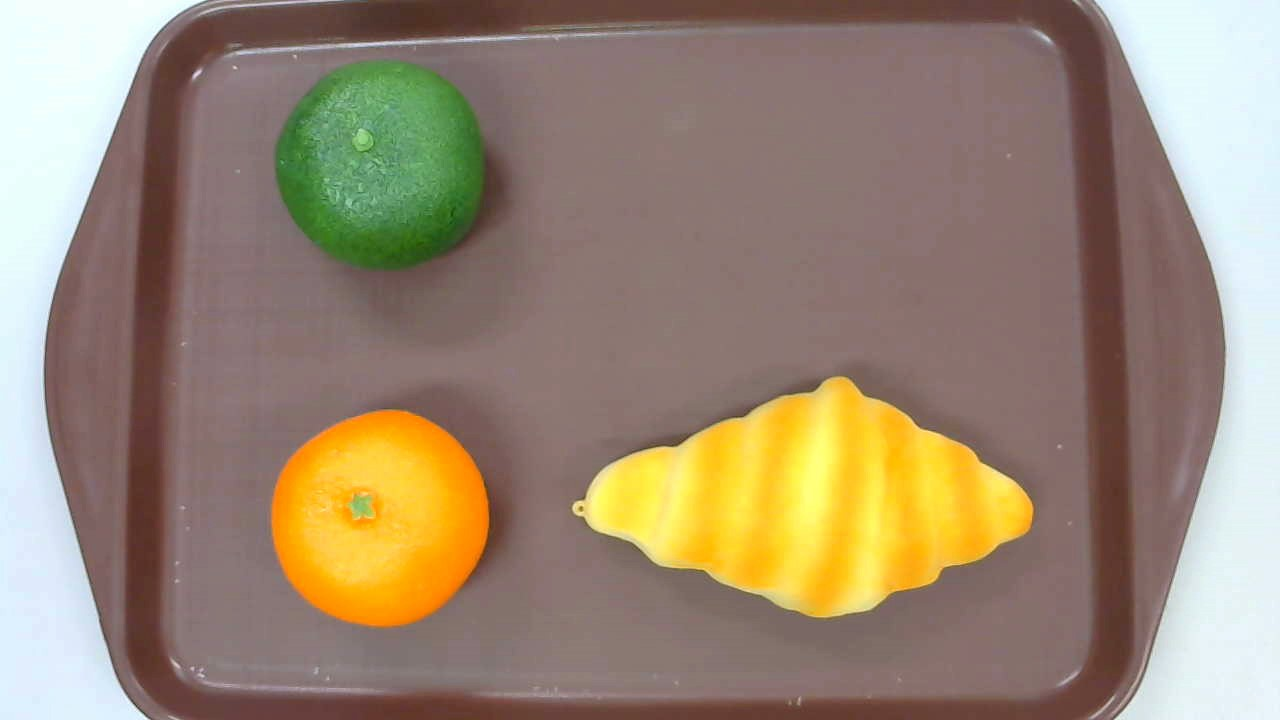croissant: (570, 376, 1032, 619)
green orange: (274, 59, 485, 271)
orange: (270, 409, 488, 629)
